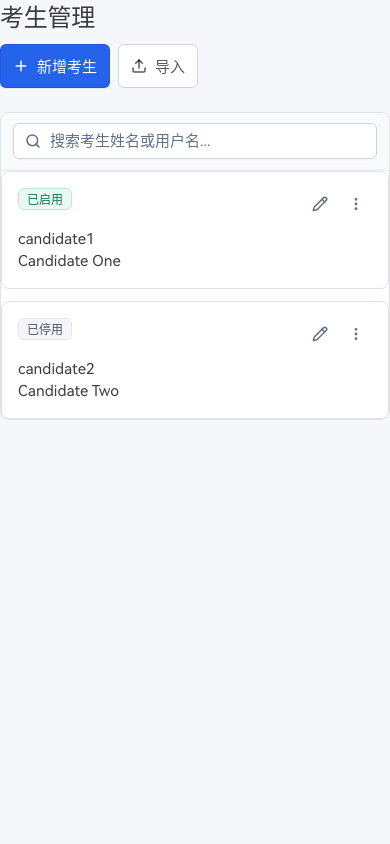
Scenario: CandidatesPage › opens edit dialog with candidate data
The image size is (390, 844).
Click the button named "编辑考生" in the row of "已启用" at coordinates (320, 204), box [304,188,336,220]
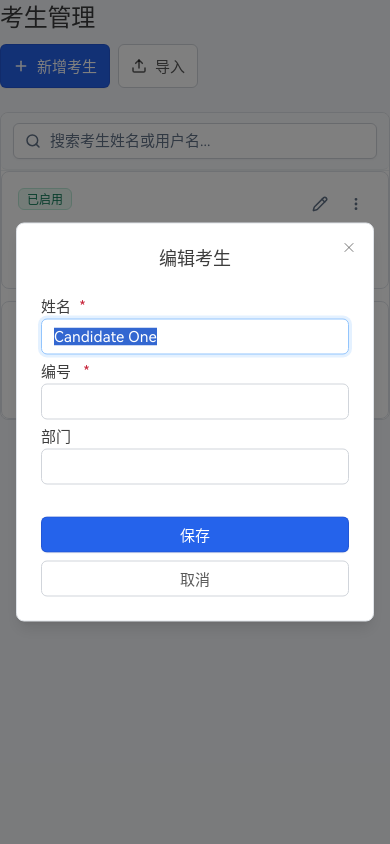
Now the heading "编辑考生" is shown, box [159,244,231,270]
